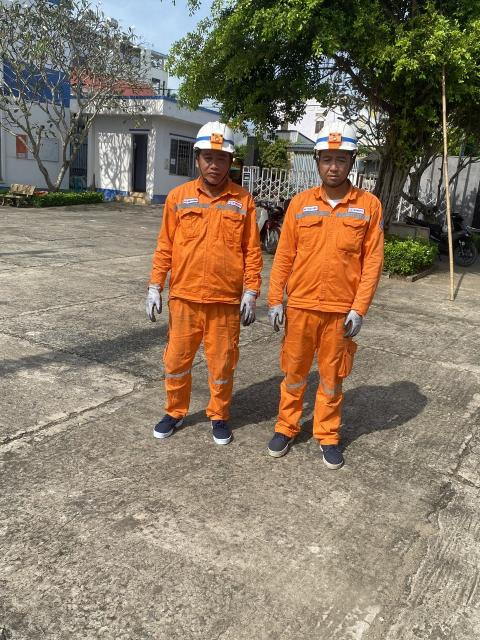gloves: (130, 280, 171, 322), (234, 287, 263, 333), (335, 310, 368, 340), (265, 298, 289, 337)
helmet: (307, 115, 363, 156), (191, 112, 236, 161)
shoes: (310, 433, 351, 476), (261, 425, 300, 459), (147, 408, 181, 442), (207, 413, 234, 451)
